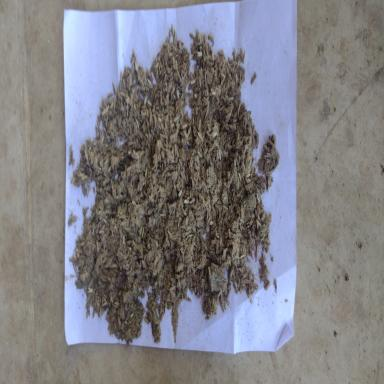pbw: (100, 104, 110, 117), (67, 212, 76, 226), (138, 171, 144, 191), (166, 228, 174, 243), (228, 264, 234, 284), (96, 118, 102, 137), (129, 196, 136, 211), (250, 71, 257, 85), (225, 111, 232, 124), (254, 207, 261, 220), (196, 113, 201, 131), (79, 170, 88, 180), (112, 300, 120, 311), (187, 61, 192, 78), (237, 101, 242, 118), (105, 164, 112, 176), (233, 280, 239, 294), (264, 279, 271, 291), (198, 130, 204, 144), (208, 108, 212, 129), (130, 49, 136, 63), (148, 110, 152, 130), (69, 174, 77, 184), (134, 118, 140, 131), (217, 147, 223, 160), (139, 108, 145, 121), (174, 87, 180, 100), (129, 92, 134, 107), (134, 58, 138, 76), (234, 72, 238, 90), (226, 96, 235, 104), (146, 76, 152, 88), (180, 121, 188, 130), (267, 175, 272, 189), (184, 214, 190, 225), (206, 212, 211, 225), (138, 225, 143, 238), (150, 126, 155, 139), (112, 95, 116, 111), (69, 256, 77, 264), (168, 284, 176, 292), (232, 46, 236, 62), (190, 75, 197, 84), (172, 273, 181, 280), (183, 128, 188, 140), (171, 23, 175, 38), (216, 289, 222, 299), (112, 82, 116, 96), (151, 299, 158, 307), (196, 29, 200, 43), (173, 32, 177, 46), (173, 115, 180, 123), (238, 253, 246, 260), (223, 296, 227, 310), (255, 244, 259, 258), (237, 172, 242, 183), (184, 197, 190, 206), (146, 116, 149, 134), (274, 277, 277, 295), (189, 32, 195, 41), (220, 70, 226, 79), (242, 278, 251, 284), (196, 149, 202, 158), (242, 50, 246, 63), (196, 51, 203, 58), (87, 287, 94, 294), (174, 142, 177, 158), (145, 166, 149, 178), (122, 232, 125, 248), (102, 217, 108, 225), (211, 293, 214, 309), (190, 197, 196, 205), (219, 104, 225, 112), (144, 316, 150, 324), (210, 91, 216, 99), (178, 188, 183, 197), (255, 133, 258, 148), (168, 28, 171, 43), (204, 32, 207, 46), (204, 72, 207, 86), (186, 295, 192, 302), (100, 302, 106, 308), (239, 222, 242, 234), (80, 240, 86, 246), (142, 225, 144, 242), (264, 143, 268, 151), (148, 98, 152, 106), (245, 173, 251, 178), (212, 49, 214, 63), (130, 312, 133, 317)
